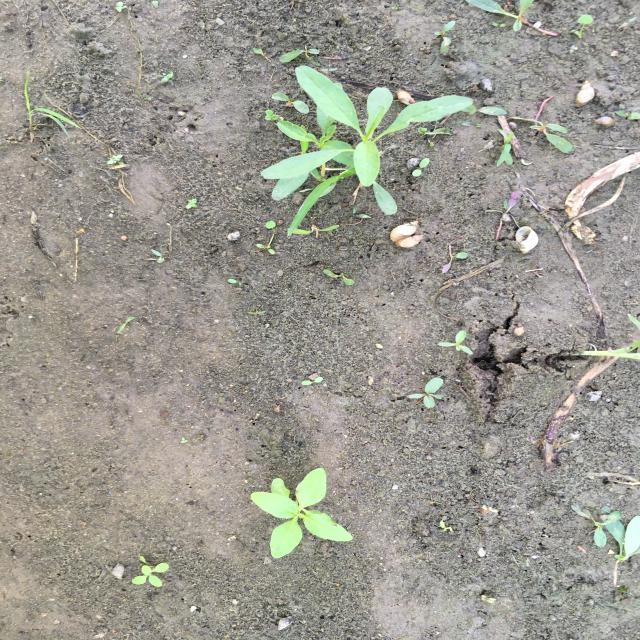Eclipta: (248, 466, 356, 560)
Waterhemp: (259, 64, 474, 217)
